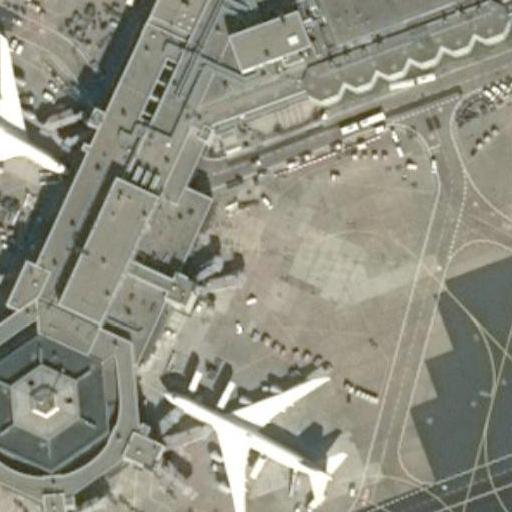Aircraft: (157, 362, 353, 512), (156, 368, 349, 512), (0, 16, 68, 183), (0, 31, 68, 187), (0, 0, 151, 2)
